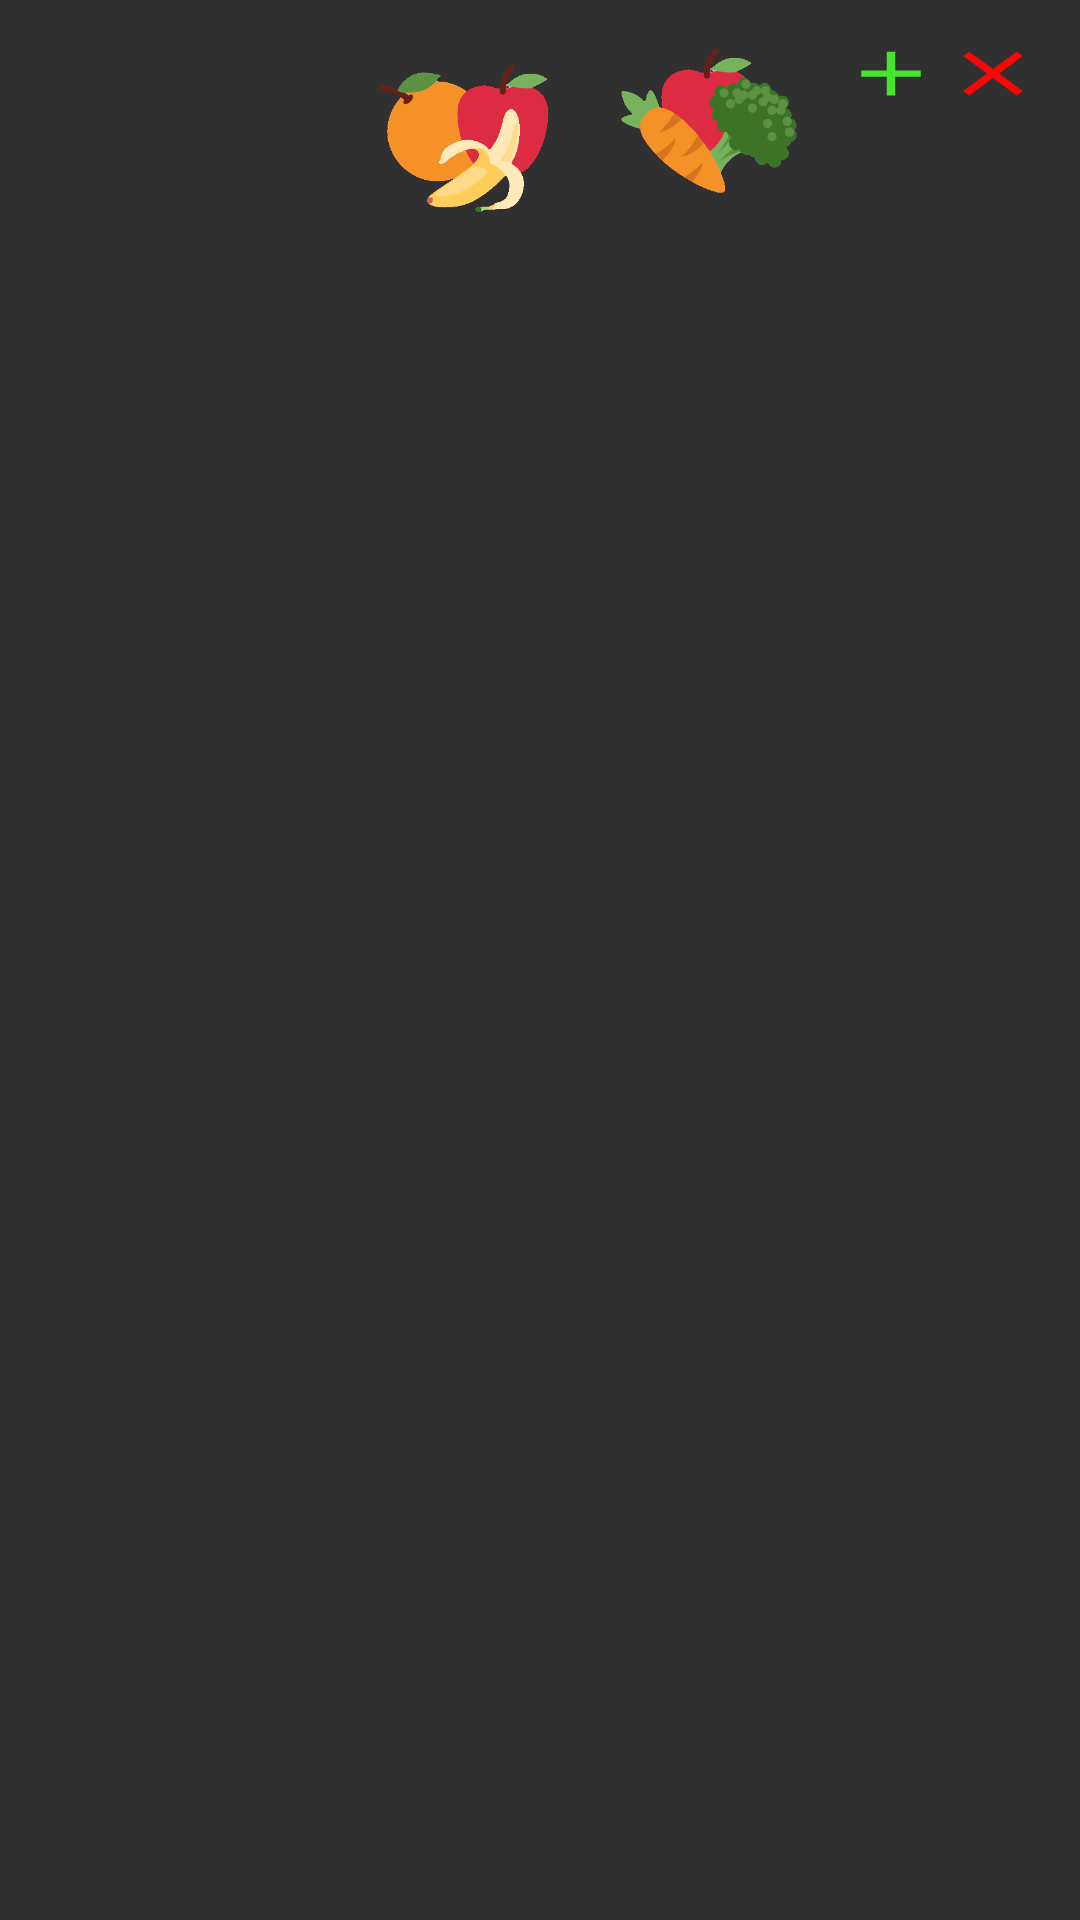

Named icons in this screenshot (1080 x 1920) and their bounding boxes, (x1, y1, x2, y2):
add: (861, 51, 921, 96)
cancel: (963, 52, 1023, 96)
fruit: (378, 65, 549, 212)
fruitandveg: (621, 49, 797, 193)
